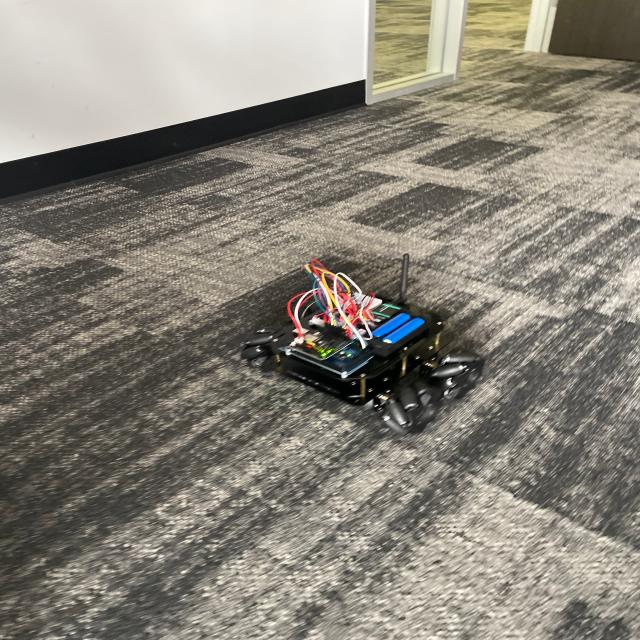ArduinoCar3: (241, 257, 489, 431)
